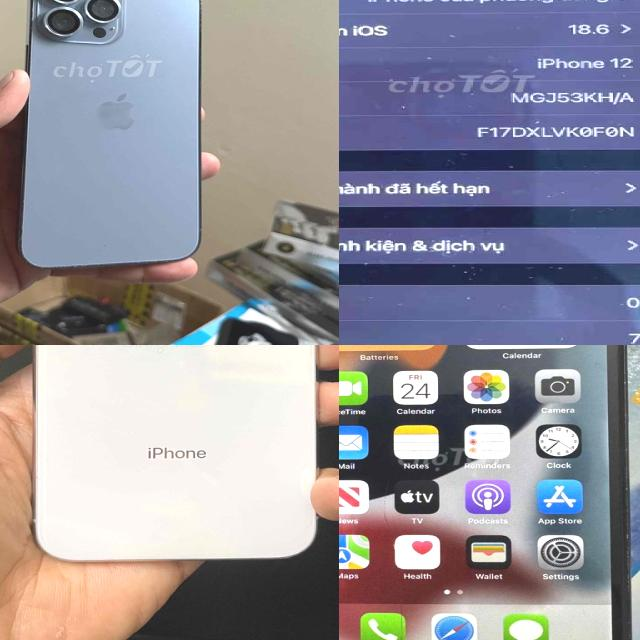gen_12_13: (339, 0, 640, 345), (8, 0, 210, 271)
gen_7_8: (339, 345, 631, 640)
gen_x_xs: (34, 345, 315, 561)
